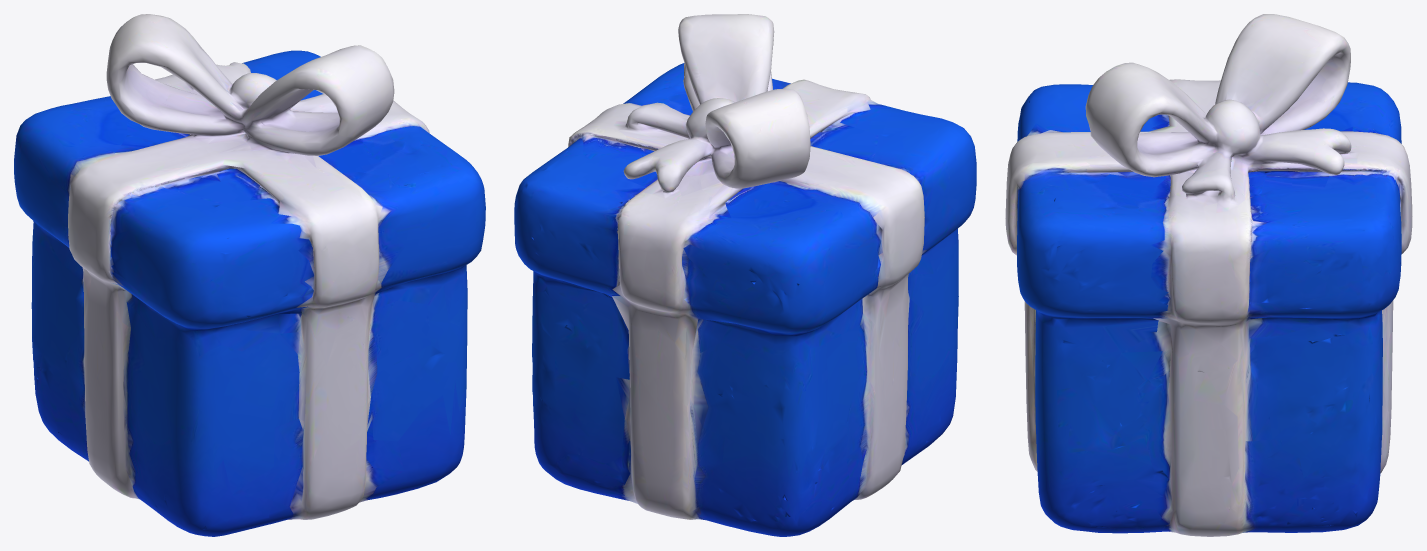
File: keepsake-blue-gift-box.glb
3 renders of one model, left to right at view 1: azimuth 30°, elevation 25°; view 2: azimuth 150°, elevation 25°; view 3: azimuth 270°, elevation 25°, orthographic. The views are drawn at different scales.
Parts seen in each view (by area): view 1: tripo_node_9d7aa473-1da9-449b-b963-8471235c044b; view 2: tripo_node_9d7aa473-1da9-449b-b963-8471235c044b; view 3: tripo_node_9d7aa473-1da9-449b-b963-8471235c044b.
Boxes of the visible parts, x1,y1,x2,y2 form: tripo_node_9d7aa473-1da9-449b-b963-8471235c044b: [14, 14, 485, 536]; tripo_node_9d7aa473-1da9-449b-b963-8471235c044b: [514, 14, 976, 536]; tripo_node_9d7aa473-1da9-449b-b963-8471235c044b: [1005, 14, 1412, 536].
Bounding box in the file's own units: 0.8182 × 0.9764 × 0.8502.
1 material, 1 textured.
